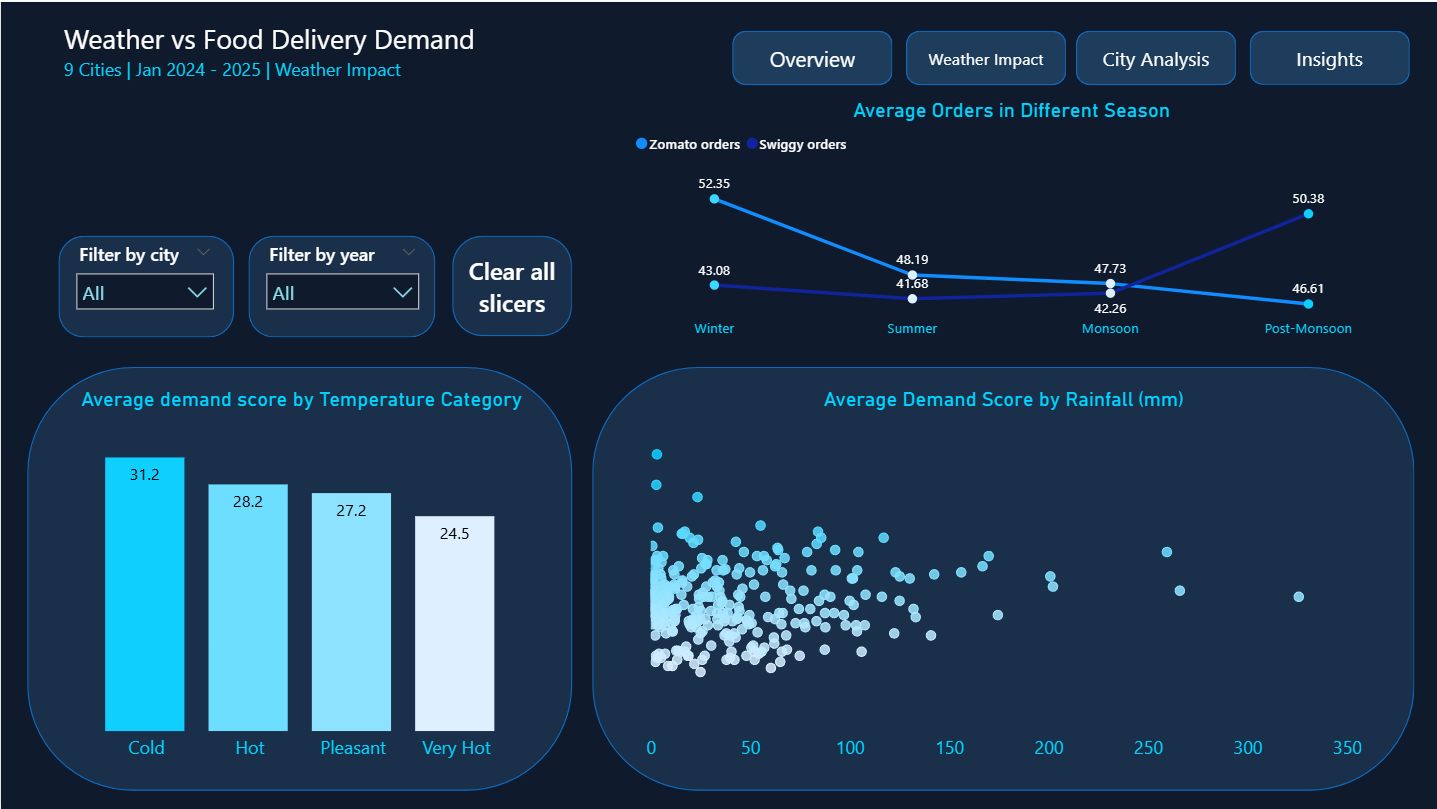

Layout of this report page (visuals, bound fields, positions):
{"tool":"powerbi","page":{"name":"Weather Impact","canvas":[1280,720],"ordinal":1},"visuals":[{"type":"shape","box":[23.6,325.2,485.3,377.4],"z":0},{"type":"shape","box":[50.9,208.5,156.4,90.6],"z":1000},{"type":"shape","box":[220.9,208.5,166.3,90.6],"z":2000},{"type":"slicer","fields":{"Values":["weather_demand_final.city"]},"box":[57.1,208.5,142.7,93.1],"z":3000},{"type":"slicer","fields":{"Values":["weather_demand_final.year"]},"box":[225.9,208.5,156.4,96.8],"z":4000},{"type":"columnChart","title":"Average demand score by Temperature  Category","fields":{"Category":["weather_demand_final.temp_category"],"Y":["weather_demand_final.Average demand score by city"]},"box":[50.9,342.6,433.2,342.6],"z":5000},{"type":"shape","box":[526.3,325.2,732.4,377.4],"z":6000},{"type":"scatterChart","title":"Average Demand Score by Rainfall (mm)","fields":{"Y":["weather_demand_final.Average demand score by city"],"X":["weather_demand_final.rainfall_mm"]},"box":[568.5,342.6,648,342.6],"z":7000},{"type":"actionButton","title":"Over","box":[651.7,26.1,142.7,48.4],"z":8000},{"type":"actionButton","title":"Over","box":[805.6,26.1,142.7,48.4],"z":9000},{"type":"actionButton","title":"Over","box":[957,26.1,142.7,48.4],"z":10000},{"type":"actionButton","title":"Over","box":[1112.6,26,142.6,48.4],"z":12000},{"type":"actionButton","box":[402.2,208.5,106.8,89.4],"z":13000},{"type":"textbox","box":[50.9,11.2,381.1,74.5],"z":14000},{"type":"lineChart","title":"Average Orders in Different Season","fields":{"Category":["weather_demand_final.season"],"Y2":["Avg(weather_demand_final.swiggy_trend)"],"Y":["Avg(weather_demand_final.zomato_trend)"]},"box":[559.8,85.6,680.2,223.4],"z":15000}]}

Visuals, with their boxes in screenshot pixels (x1, y1, x2, y2), scaled from the page's 1280x720 canvas onto the 1437x809 screenshot:
shape: 26/365/571/789
shape: 57/234/233/336
shape: 248/234/435/336
slicer - weather_demand_final.city: 64/234/224/339
slicer - weather_demand_final.year: 254/234/429/343
"Average demand score by Temperature  Category" columnChart: 57/385/543/770
shape: 591/365/1413/789
"Average Demand Score by Rainfall (mm)" scatterChart: 638/385/1366/770
"Over" actionButton: 732/29/892/84
"Over" actionButton: 904/29/1065/84
"Over" actionButton: 1074/29/1235/84
"Over" actionButton: 1249/29/1409/84
actionButton: 452/234/571/335
textbox: 57/13/485/96
"Average Orders in Different Season" lineChart: 628/96/1392/347
